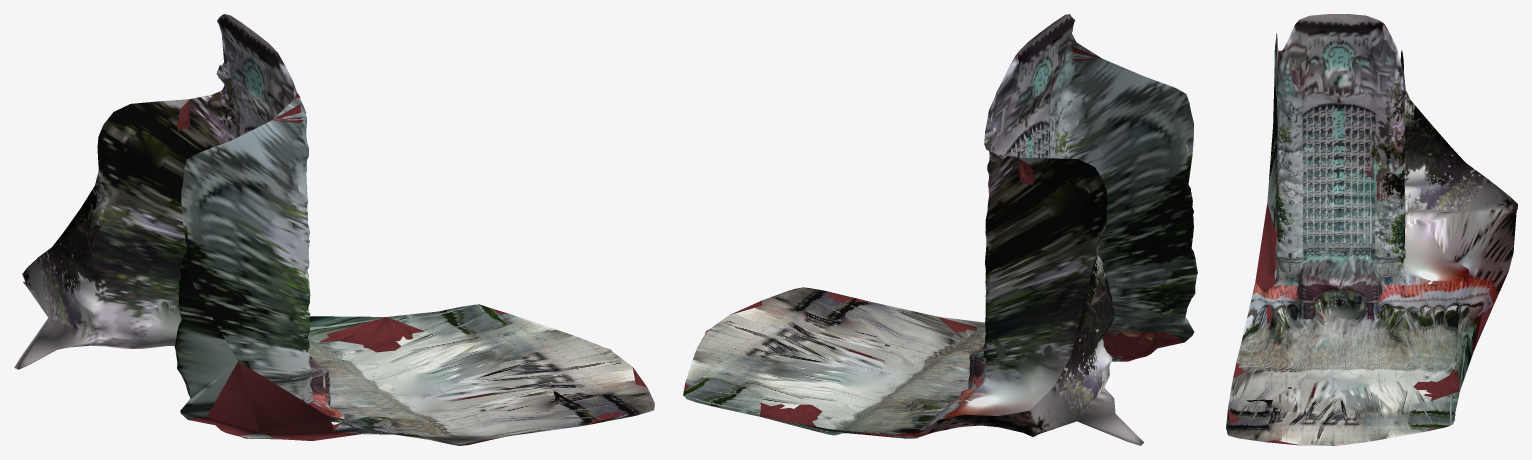
File: land.obj
3 views of the same model, side by side, from view 1: azimuth 30°, elevation 25°; view 2: azimuth 150°, elevation 25°; view 3: azimuth 270°, elevation 25° (orthographic). The views are drawn at different scales.
Size of the model in its own units: 117 by 87.73 by 75.84.
Materials: 1 (1 with a texture image).
